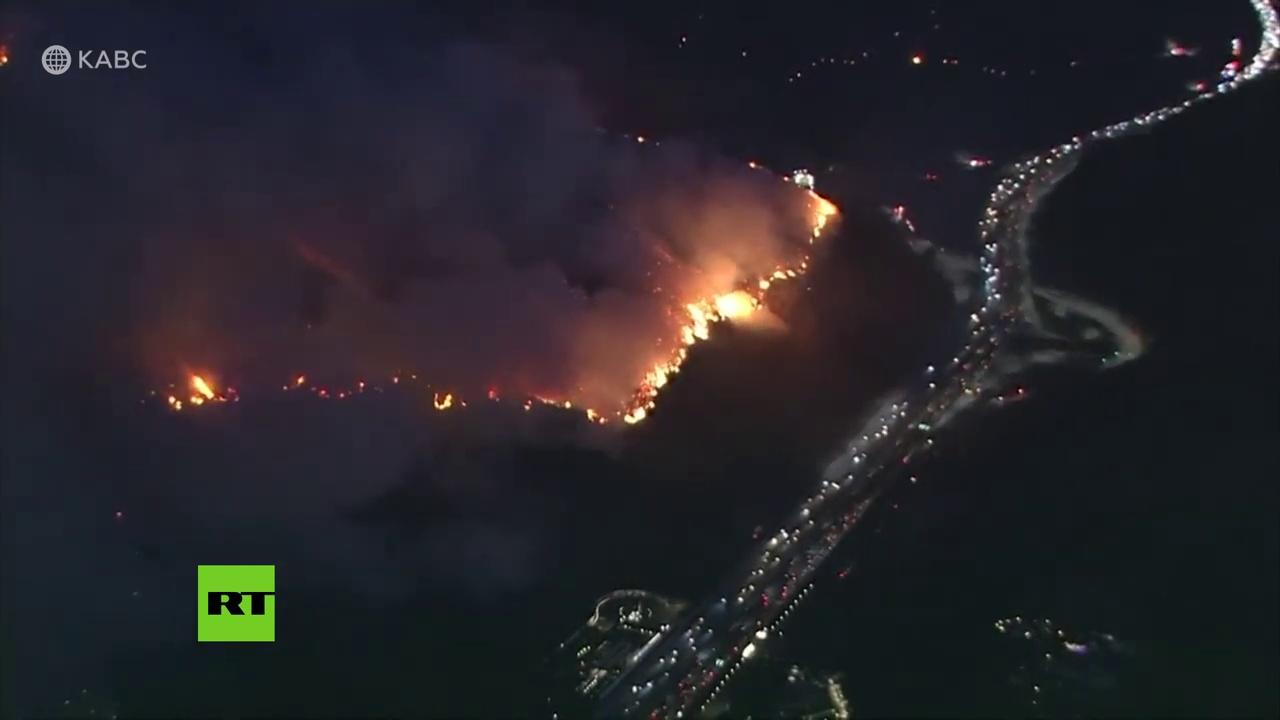Fire: (626, 302, 709, 422), (716, 271, 795, 320), (163, 375, 218, 410), (814, 190, 838, 238), (431, 391, 455, 410), (586, 408, 606, 424)
